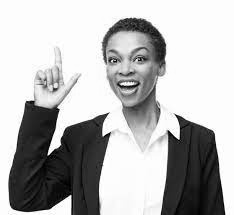pointing_gesture: (32, 46, 81, 107)
